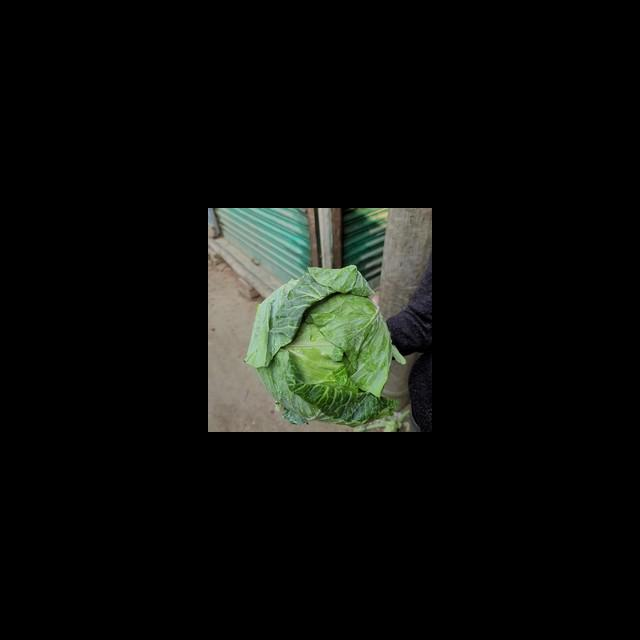cabbage: (245, 266, 405, 424)
